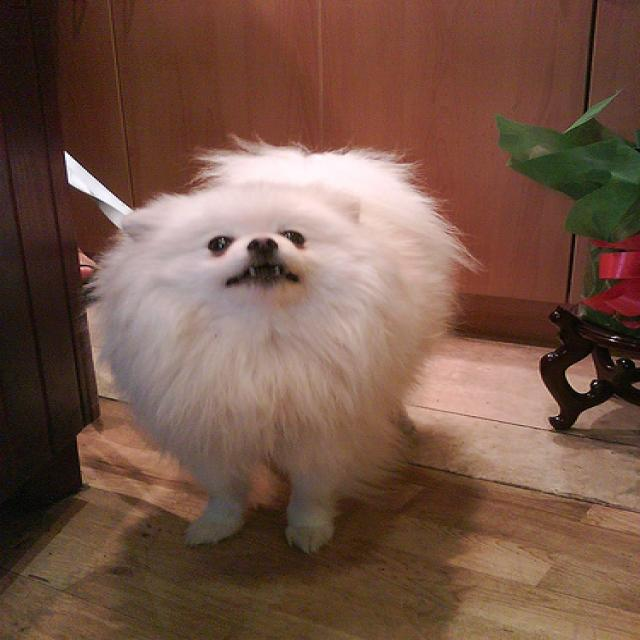dog-pomeranian: (80, 133, 485, 570)
